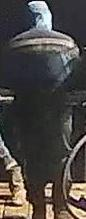vest: (5, 28, 79, 124)
